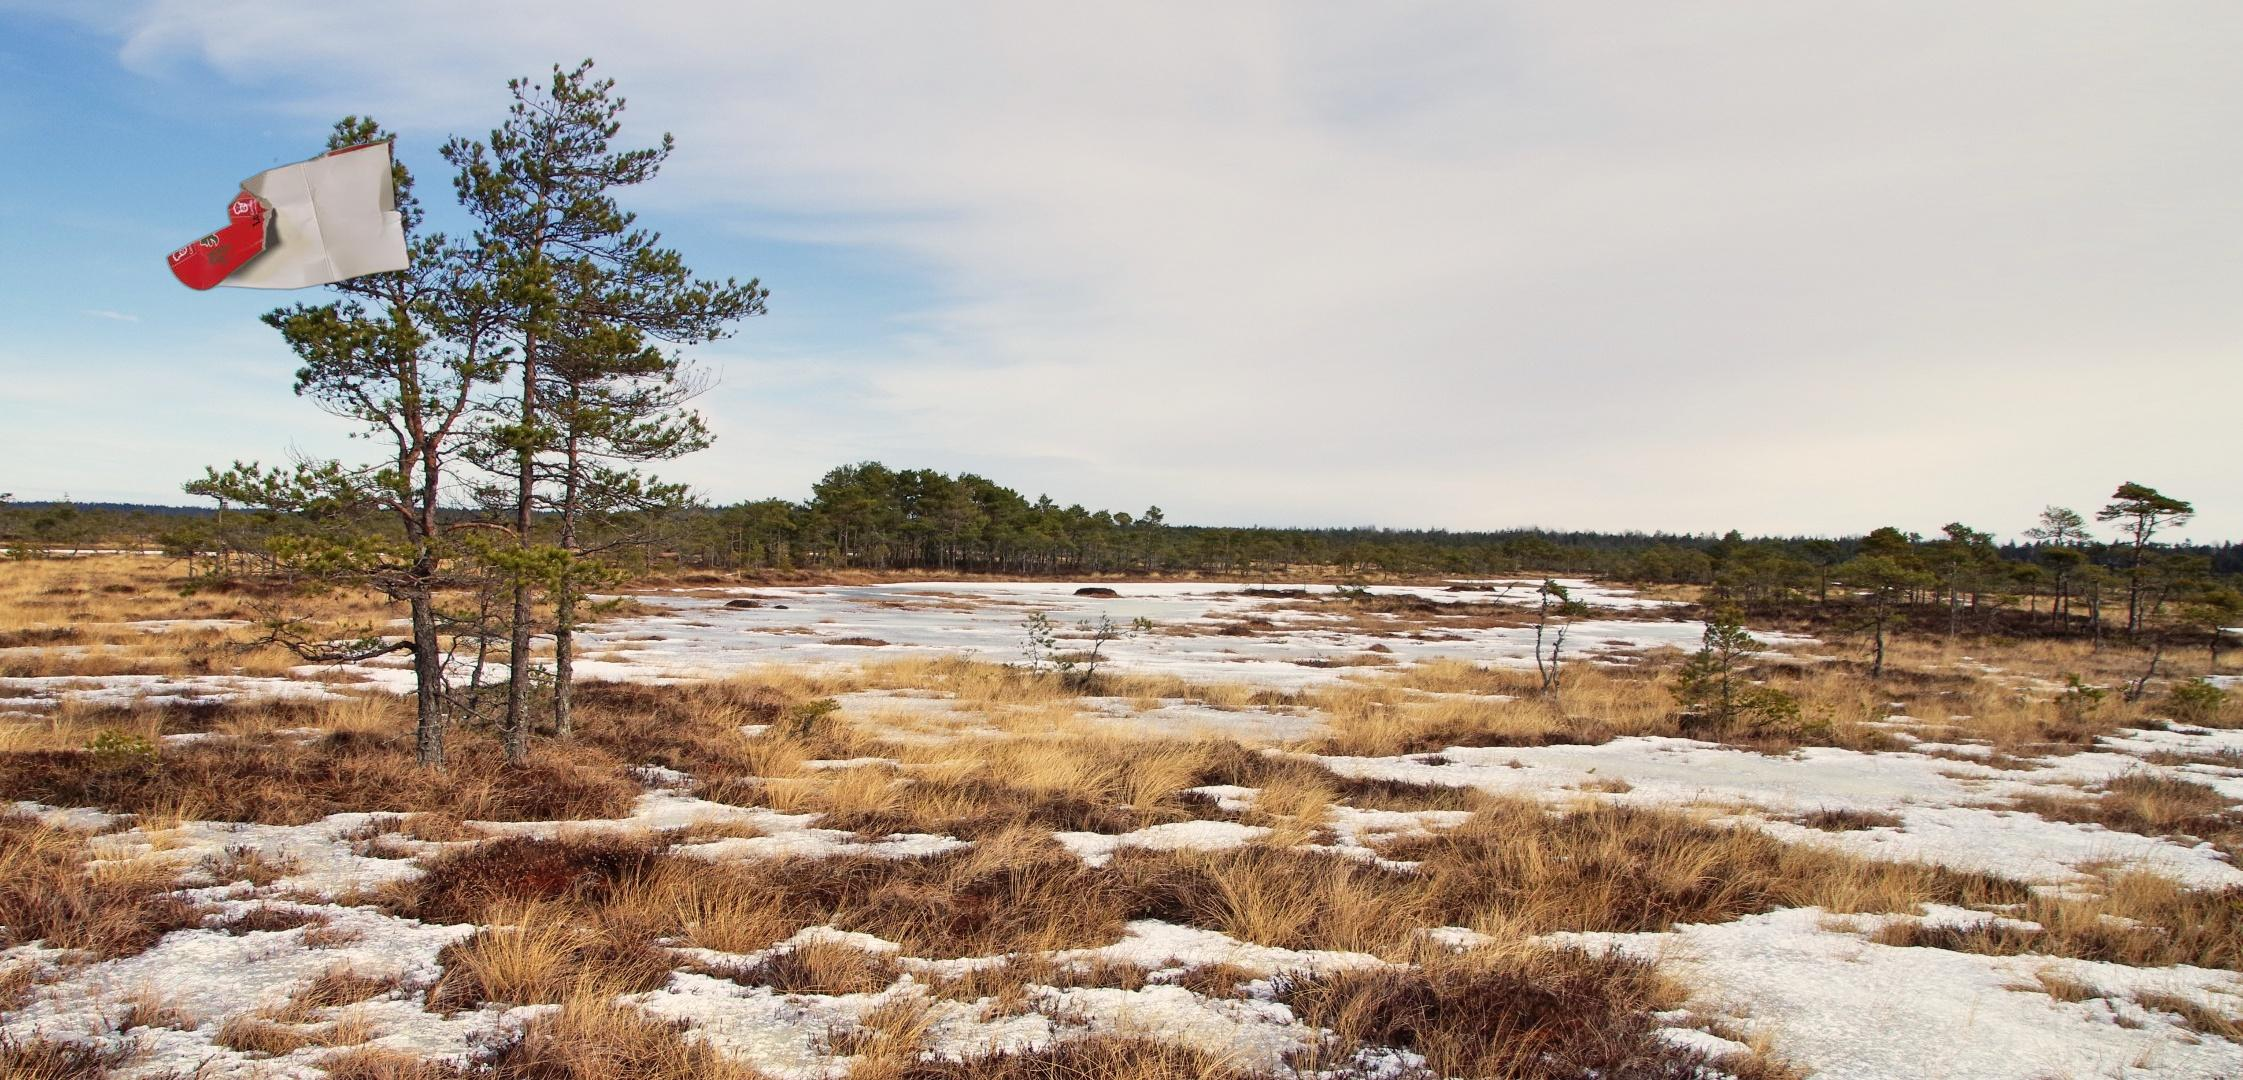paper: (162, 137, 416, 295)
